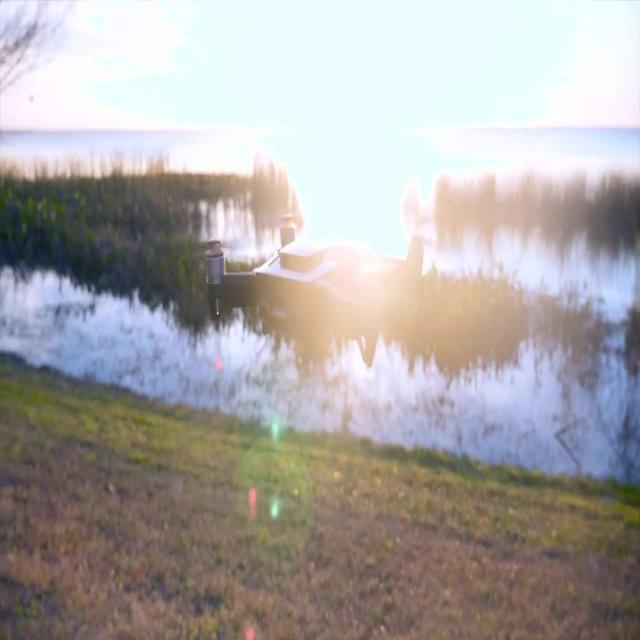UAV: (202, 217, 434, 368)
